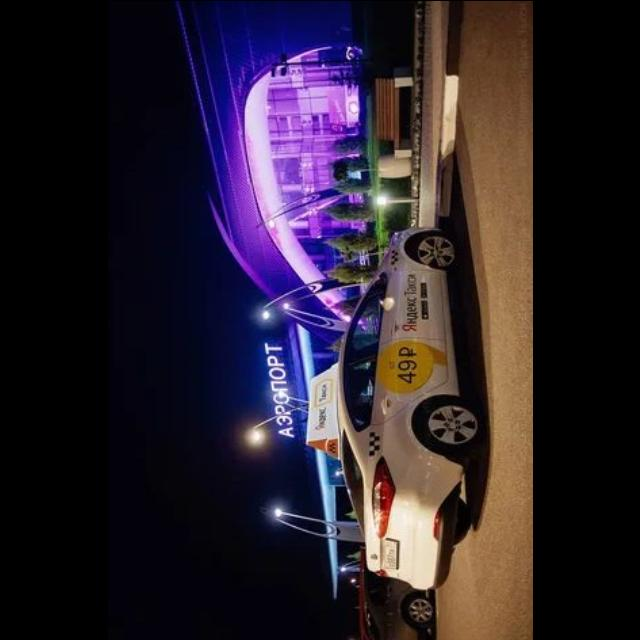taxi: (305, 226, 486, 592)
